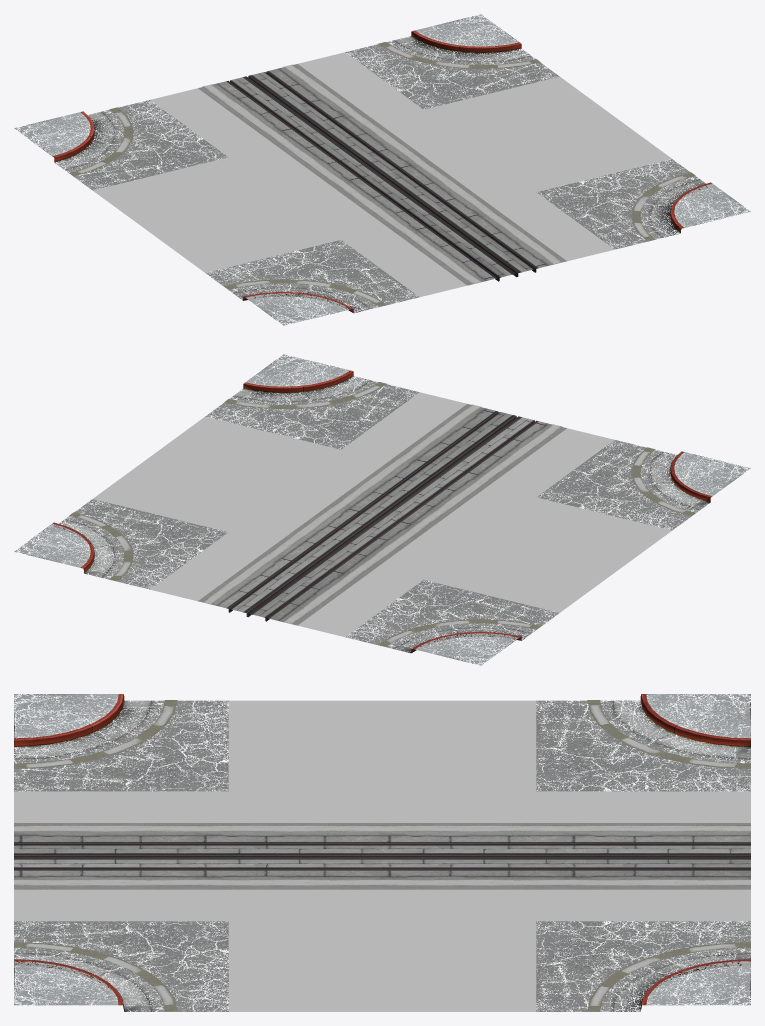
The model's file is RoadRailCrossA.obj.
3 renders of one model, top to bottom at view 1: azimuth 30°, elevation 25°; view 2: azimuth 150°, elevation 25°; view 3: azimuth 270°, elevation 25°, orthographic. The views are drawn at different scales.
Visible parts, largest first — view 1: Road_Rail-CrossA; view 2: Road_Rail-CrossA; view 3: Road_Rail-CrossA.
Boxes of the visible parts, x1,y1,x2,y2 form: Road_Rail-CrossA: (14,14,750,325); Road_Rail-CrossA: (14,354,750,665); Road_Rail-CrossA: (14,694,750,1011).
Size of the model in its own units: 20 by 0.34 by 20.
